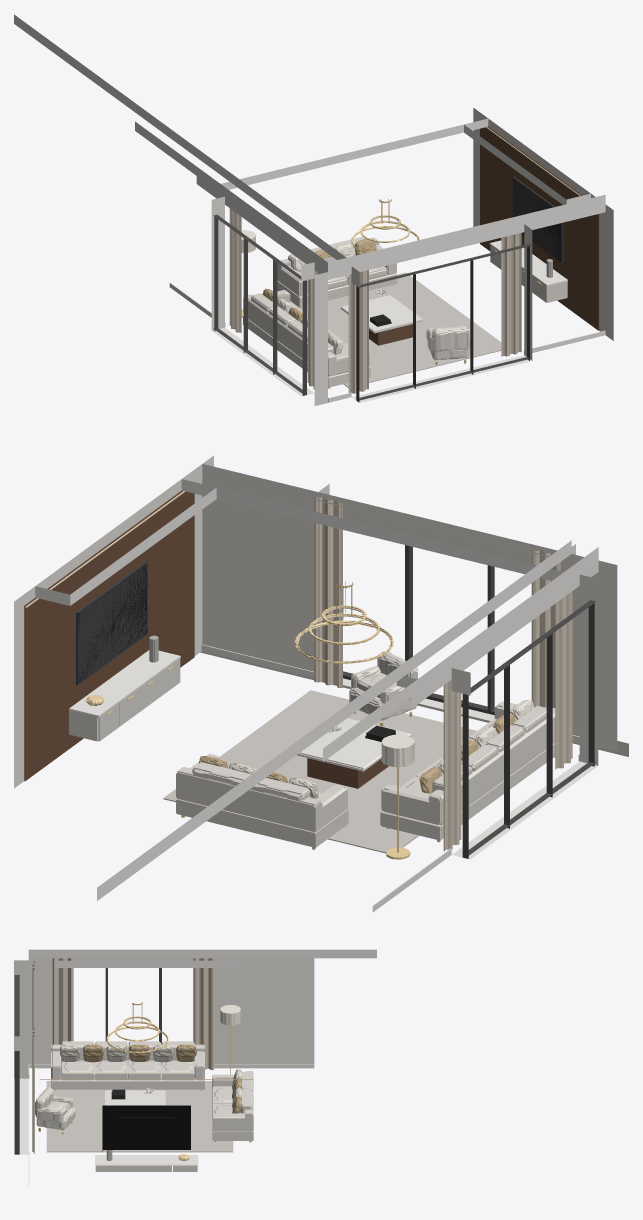
Rendered from LIVING.glb.
3 views of the same model, one above another, from view 1: azimuth 30°, elevation 25°; view 2: azimuth 150°, elevation 25°; view 3: azimuth 270°, elevation 25° (orthographic). The views are drawn at different scales.
Parts seen in each view (by area): view 1: WEB_LIVING; view 2: WEB_LIVING; view 3: WEB_LIVING.
Boxes of the visible parts, <box> form: WEB_LIVING: <box>14,14,613,405</box>; WEB_LIVING: <box>14,455,628,912</box>; WEB_LIVING: <box>14,949,376,1185</box>.
Size of the model in its own units: 6.84 by 3.2 by 13.19.
